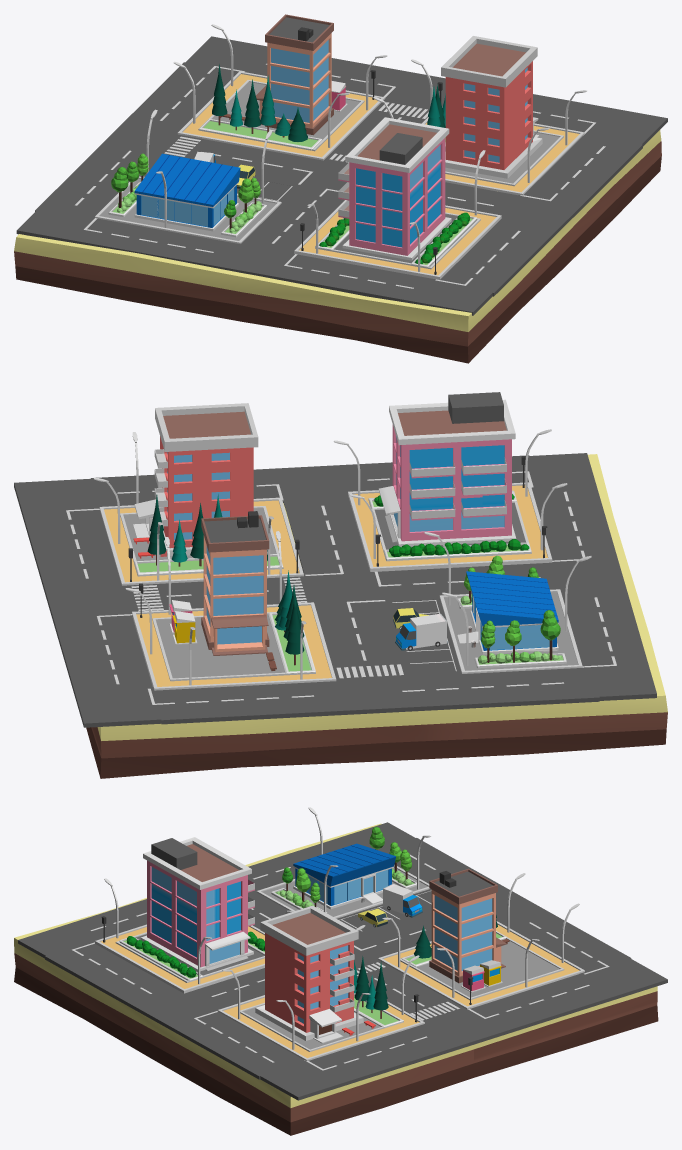
3 renders of one model, top to bottom at view 1: azimuth 30°, elevation 25°; view 2: azimuth 150°, elevation 25°; view 3: azimuth 270°, elevation 25°, orthographic. The views are drawn at different scales.
Parts seen in each view (by area): view 1: ROAD, Floor_6, House, House_2, House_3, Shop, Floor, Floor_3, ROAD_Lines_12, Floor_4_4, Floor_2, Floor_4_3 (+4 smaller); view 2: ROAD, Floor_6, House, House_2, House_3, Shop, Floor_3, Floor, Floor_4_3, Floor_2, ROAD_Lines_12, Floor_4_4 (+11 smaller); view 3: ROAD, Floor_6, House, House_2, House_3, Shop, Floor_3, Floor_4_3, Floor_2, Floor, ROAD_Lines_12, Floor_4_4 (+7 smaller).
Part boxes in pixels (x1,y1,x2,y2): ROAD: [16, 36, 667, 315]; Floor_6: [14, 130, 661, 363]; House: [338, 117, 451, 260]; House_2: [441, 36, 542, 178]; House_3: [256, 14, 333, 135]; Shop: [134, 153, 240, 231]; Floor: [294, 200, 501, 279]; Floor_3: [177, 71, 385, 160]; ROAD_Lines_12: [75, 63, 605, 288]; Floor_4_4: [95, 176, 281, 243]; Floor_2: [422, 107, 584, 195]; Floor_4_3: [198, 80, 364, 151]; ROAD: [14, 453, 656, 727]; Floor_6: [86, 454, 667, 778]; House: [378, 392, 516, 547]; House_2: [133, 403, 258, 556]; House_3: [201, 511, 269, 655]; Shop: [457, 571, 558, 654]; Floor_3: [132, 602, 336, 690]; Floor: [348, 482, 552, 571]; Floor_4_3: [152, 611, 315, 681]; Floor_2: [99, 497, 303, 585]; ROAD_Lines_12: [66, 471, 616, 704]; Floor_4_4: [439, 589, 582, 673]; ROAD: [18, 822, 667, 1100]; Floor_6: [14, 823, 658, 1135]; House: [140, 837, 254, 971]; House_2: [255, 905, 363, 1043]; House_3: [429, 868, 506, 983]; Shop: [293, 843, 395, 909]; Floor_3: [378, 921, 584, 1009]; Floor_4_3: [400, 936, 564, 1000]; Floor_2: [217, 995, 424, 1061]; Floor: [95, 924, 264, 993]; ROAD_Lines_12: [72, 854, 609, 1070]; Floor_4_4: [256, 865, 430, 918].
Bounding box in the file's own units: 61.86 × 14.88 × 61.57.
2 materials, 2 textured.
